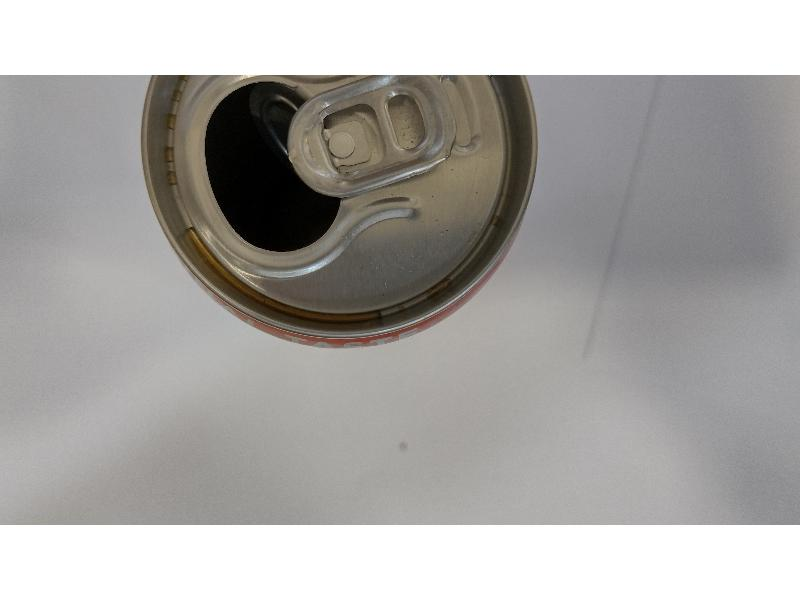can: (133, 72, 547, 354)
